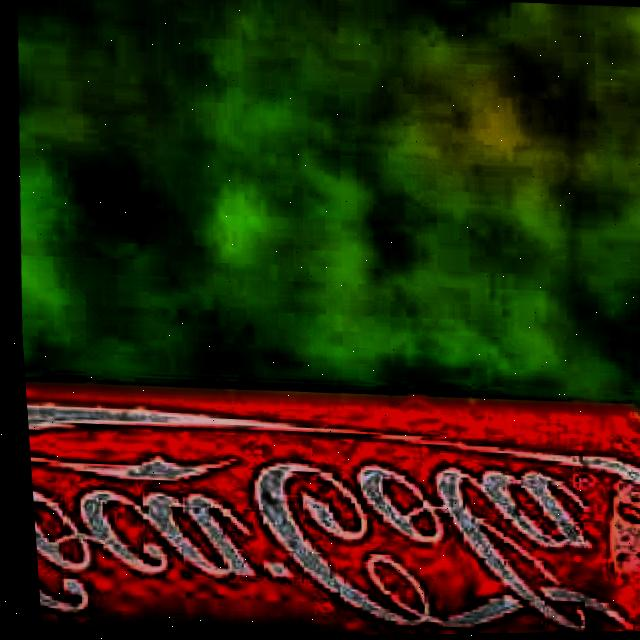metal: (20, 374, 640, 640)
